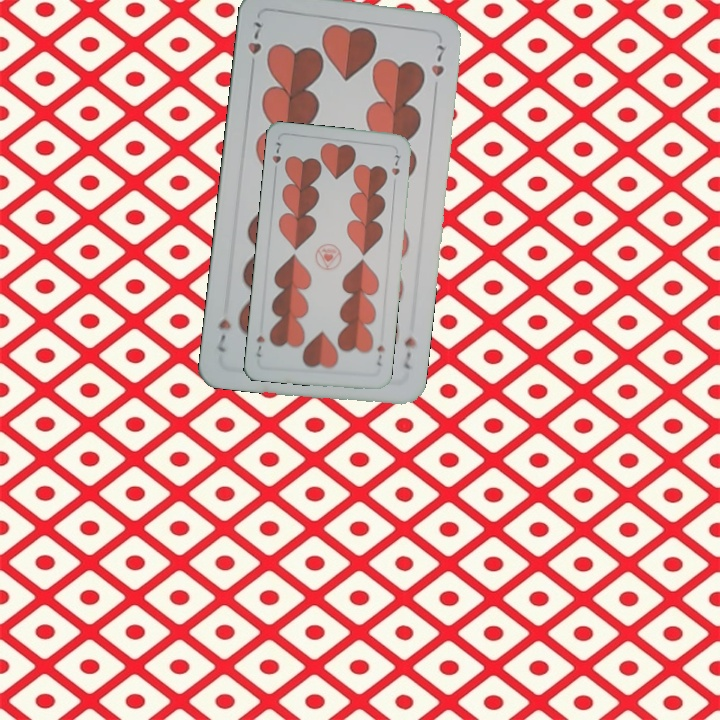H7: (244, 18, 265, 74), (399, 333, 419, 371), (268, 138, 284, 177), (373, 341, 387, 368)
